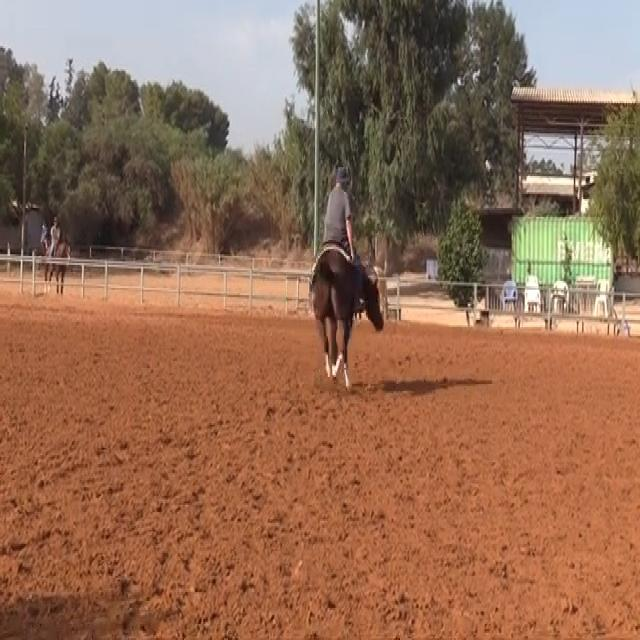horse: (307, 242, 385, 391)
